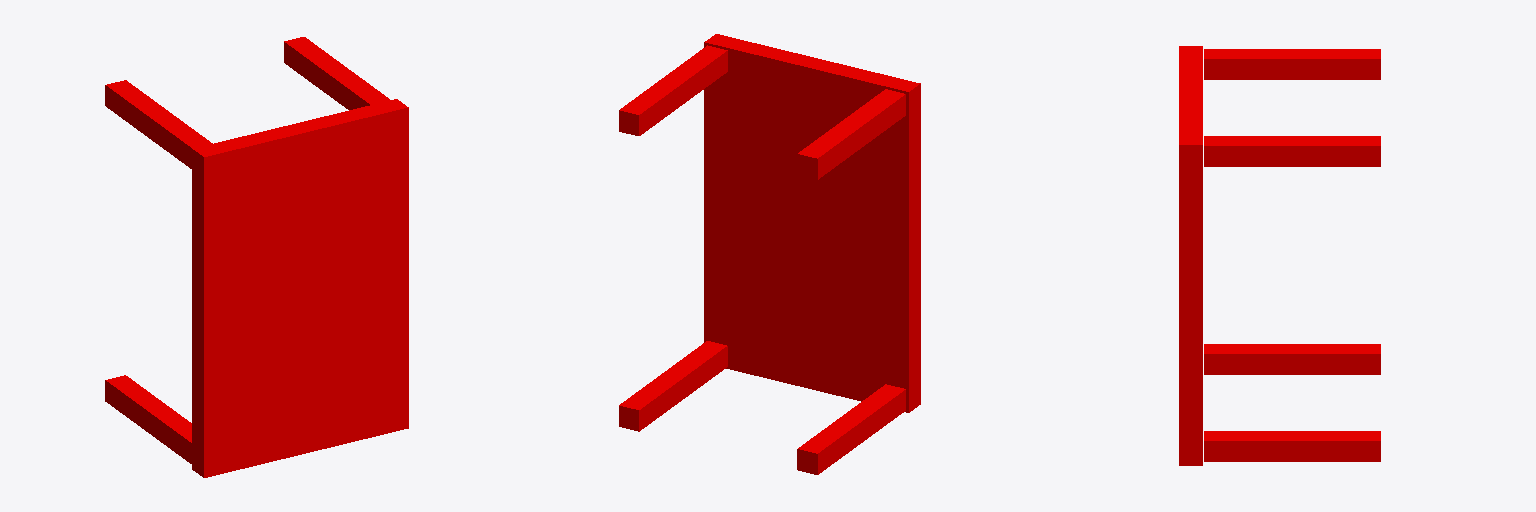
File: Home_robot_blender.obj
3 renders of one model, left to right at view 1: azimuth 30°, elevation 25°; view 2: azimuth 150°, elevation 25°; view 3: azimuth 270°, elevation 25°, orthographic.
Visible parts, largest first — view 1: instance_0.004_ID31.001, instance_0_ID3.001, instance_0.002_ID19.001, instance_0.001_ID13.001; view 2: instance_0.004_ID31.001, instance_0.001_ID13.001, instance_0.002_ID19.001, instance_0_ID3.001, instance_0.003_ID25.001; view 3: instance_0.004_ID31.001, instance_0_ID3.001, instance_0.001_ID13.001, instance_0.002_ID19.001, instance_0.003_ID25.001.
Part boxes in pixels (bbox=[...]): instance_0.004_ID31.001: bbox=[192, 99, 408, 477]; instance_0_ID3.001: bbox=[105, 80, 212, 168]; instance_0.002_ID19.001: bbox=[105, 375, 191, 463]; instance_0.001_ID13.001: bbox=[284, 37, 389, 109]; instance_0.004_ID31.001: bbox=[704, 34, 920, 412]; instance_0.001_ID13.001: bbox=[619, 45, 727, 135]; instance_0.002_ID19.001: bbox=[797, 384, 905, 474]; instance_0_ID3.001: bbox=[797, 89, 905, 179]; instance_0.003_ID25.001: bbox=[619, 341, 727, 431]; instance_0.004_ID31.001: bbox=[1179, 46, 1202, 465]; instance_0_ID3.001: bbox=[1204, 49, 1380, 79]; instance_0.001_ID13.001: bbox=[1204, 136, 1380, 166]; instance_0.002_ID19.001: bbox=[1204, 344, 1380, 374]; instance_0.003_ID25.001: bbox=[1204, 431, 1380, 461].
Bounding box in the file's own units: 47.24 × 70.87 × 40.36.